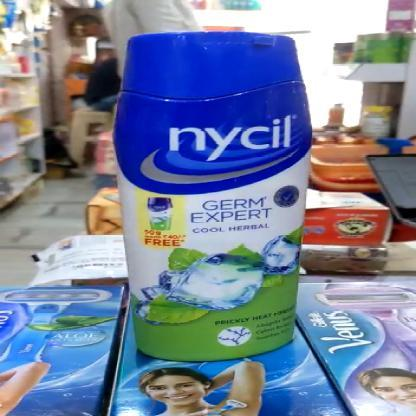Nycil Prickly Heat Powder: (108, 32, 320, 362)
